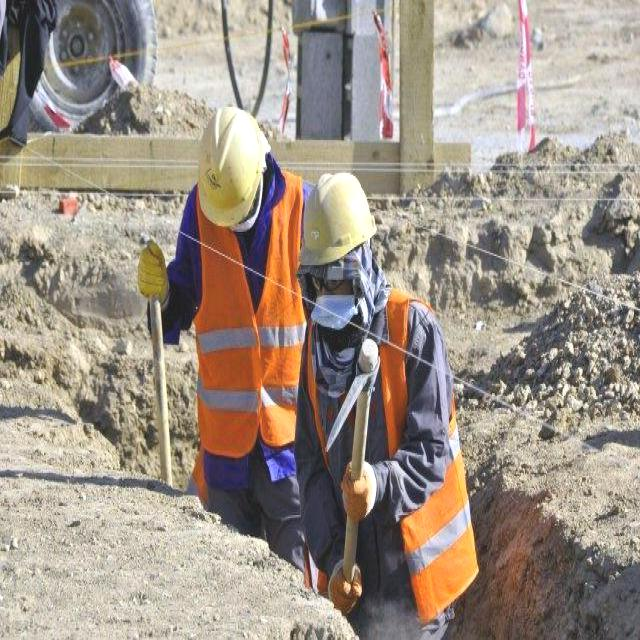face_mask: (310, 266, 359, 330)
hand_glove: (328, 554, 369, 624), (340, 456, 383, 521), (134, 235, 169, 312)
head_helmet: (295, 169, 377, 262), (202, 103, 262, 225)
person: (297, 166, 479, 630), (135, 96, 302, 509)
vest: (298, 304, 464, 602), (193, 196, 302, 453)
